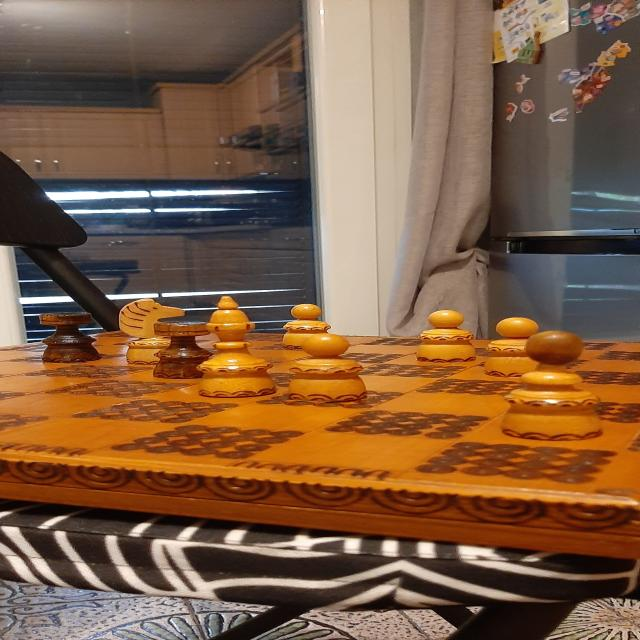black-rook: (153, 321, 215, 379), (39, 312, 101, 363)
white-bishop: (500, 330, 604, 441)
white-knight: (119, 298, 185, 365)
white-pawn: (288, 333, 367, 402), (483, 317, 539, 378), (416, 310, 477, 362), (282, 304, 331, 349)
white-queen: (196, 296, 277, 398)
